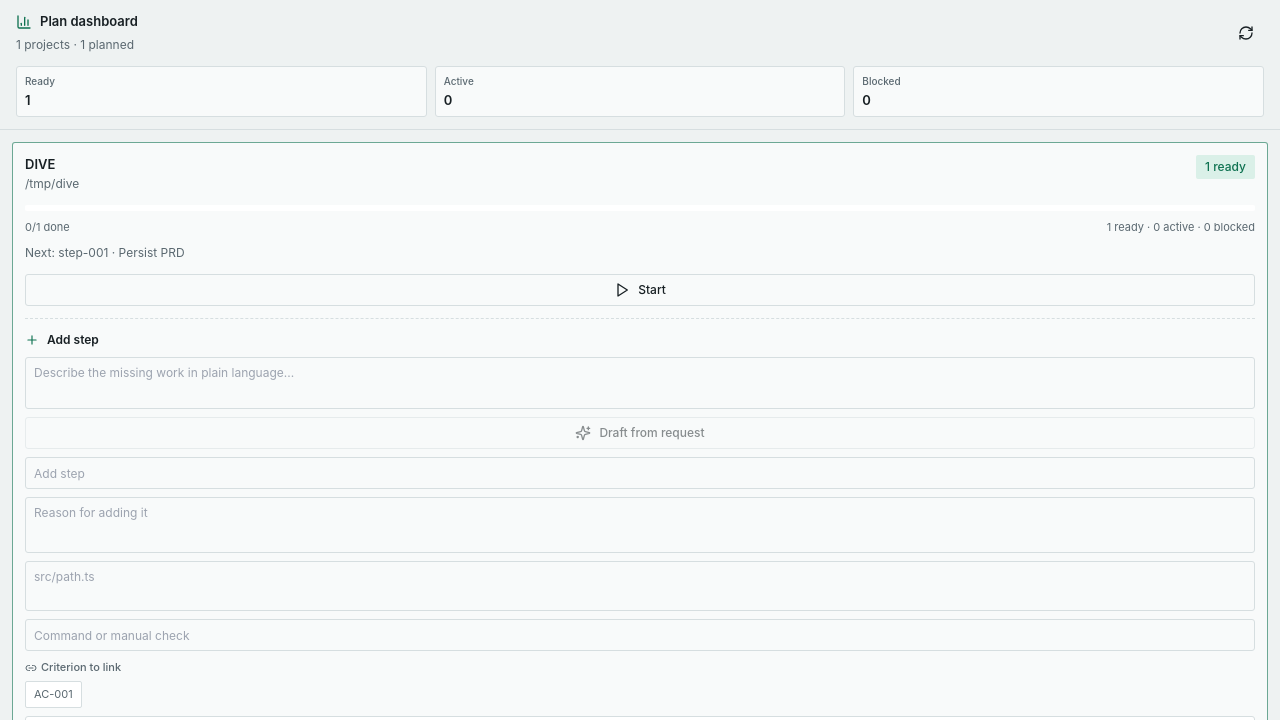
PlanDashboardPanel add-step area › keeps criterion linking optional without showing a static scope fallback card
Type "Add auth check" into the field with test id "plan-add-step-title". click: (640, 473)
box: [25,457,1255,489]
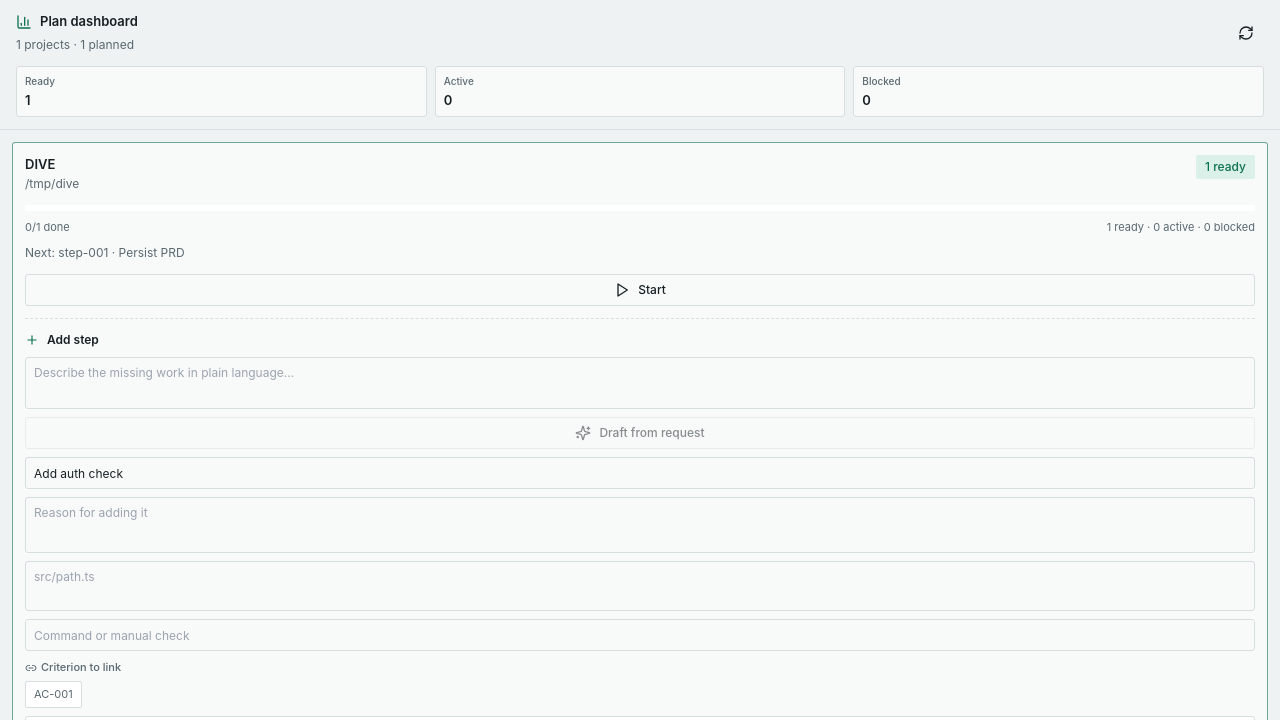
Type "Verification found sign-in behavior is missing" into the text box with test id "plan-add-step-reason". click: (640, 525)
box: [25,497,1255,553]
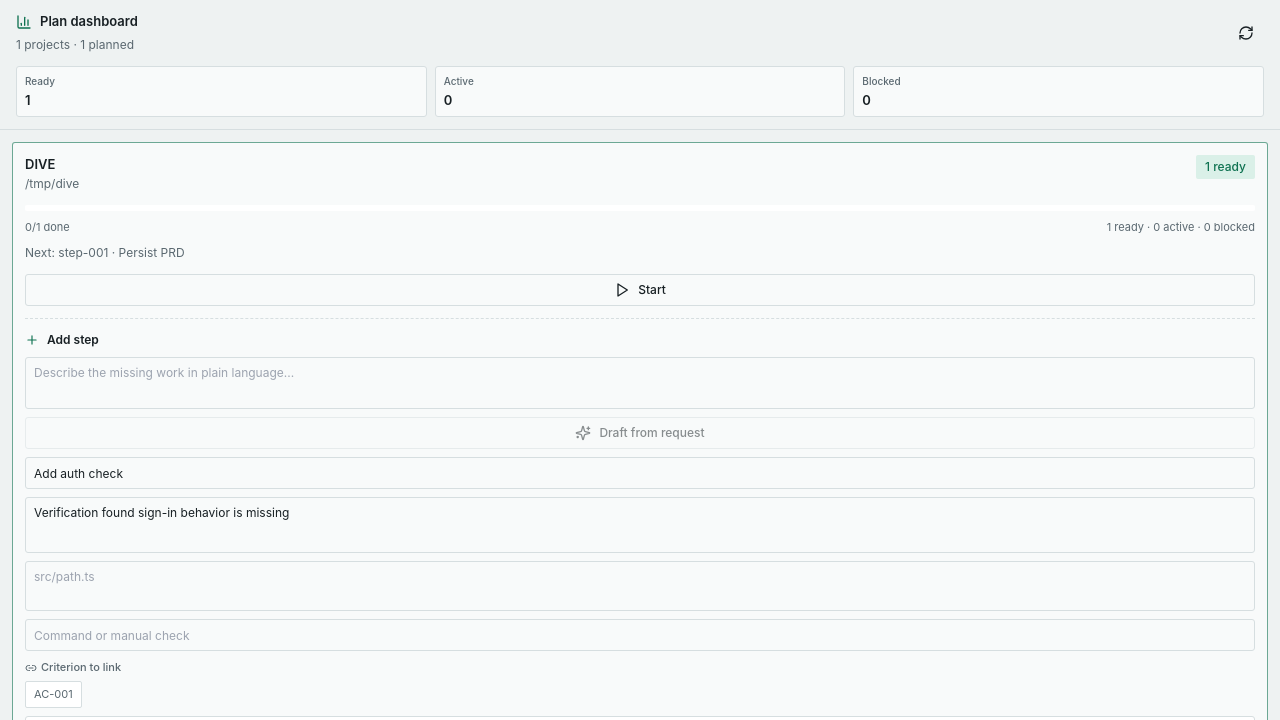
Type "src/auth/session.ts" into the text box with test id "plan-add-step-expected-files". click: (640, 586)
box: [25,561,1255,611]
(page scrolled)
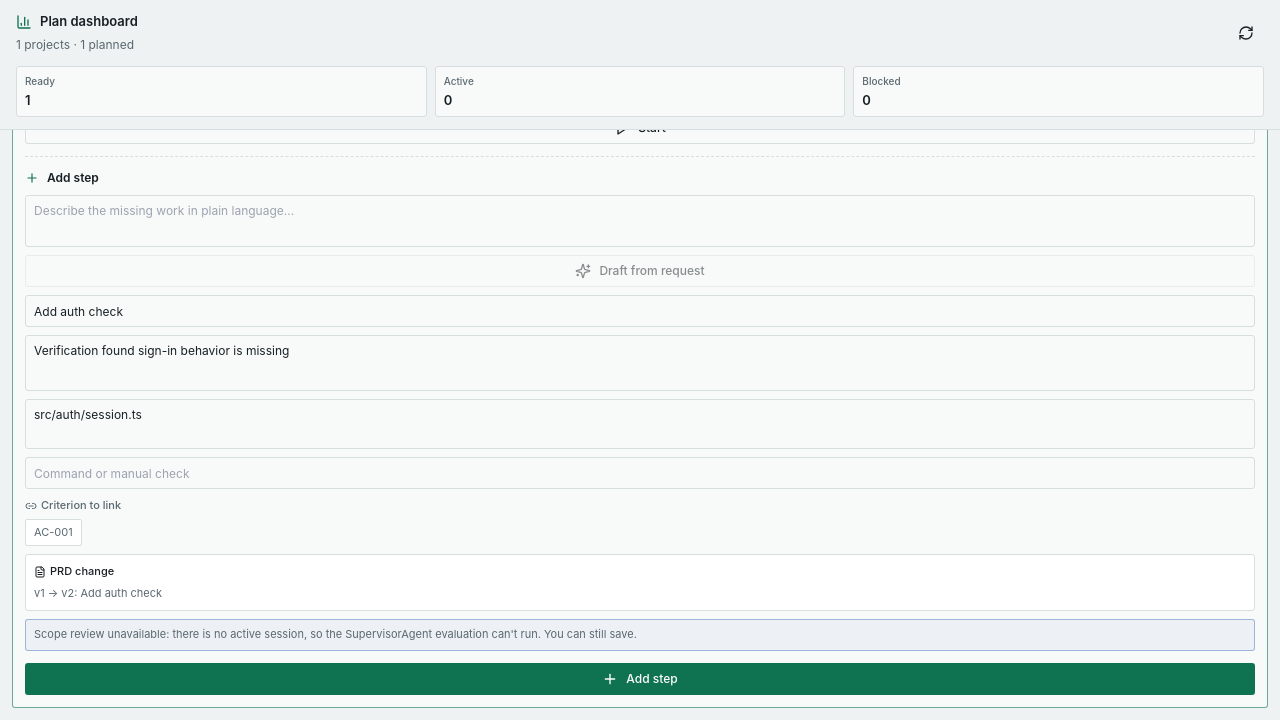
Expected: the button with test id "plan-add-step-save" is enabled, [25,663,1255,695]
Expected: the element with test id "plan-add-step-prd-delta" shows "Add auth check", [34,586,162,600]
